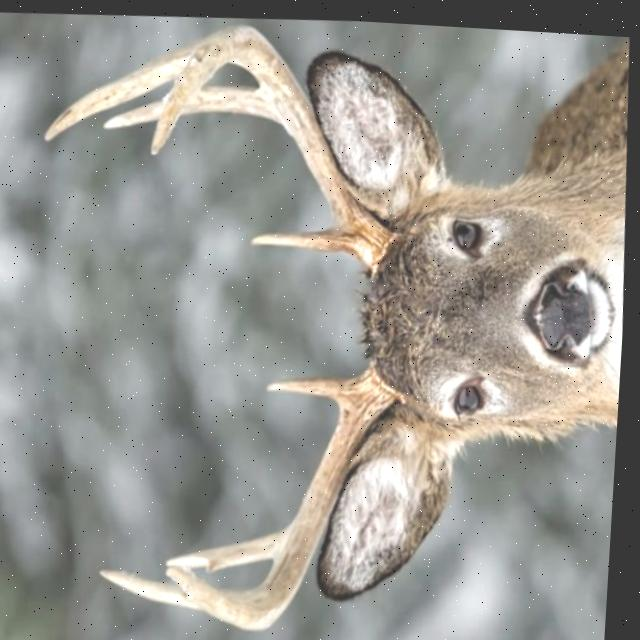L-F: (151, 19, 394, 265)
L-G1: (253, 217, 357, 249)
R-F: (171, 362, 401, 627)
R-G1: (270, 371, 357, 399)
